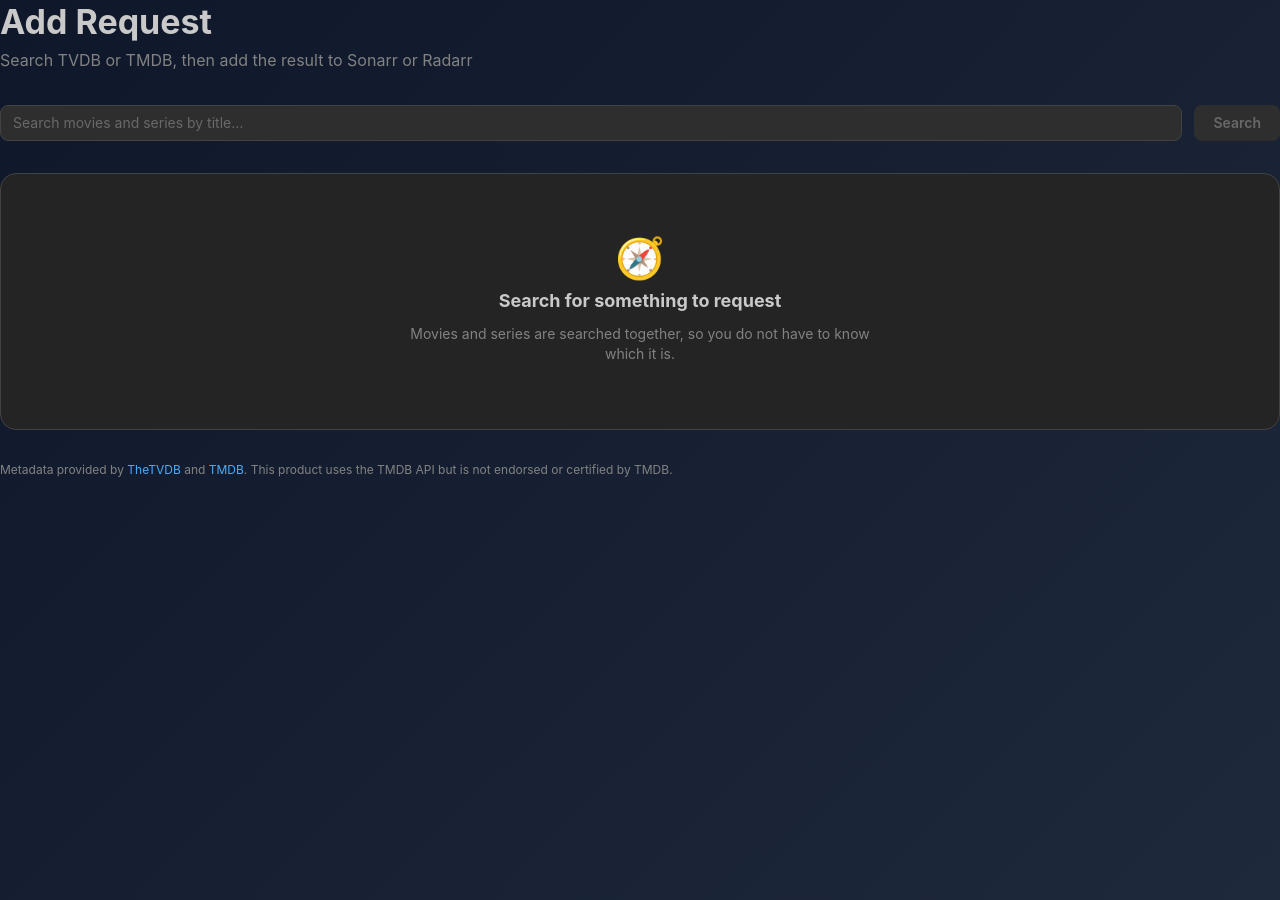
it: AddRequestPage › opens the tab holding the result most likely to be the one wanted
The width and height of the screenshot is (1280, 900).
Type "arrival" into the search field at coordinates (591, 123), box [0,105,1182,141]
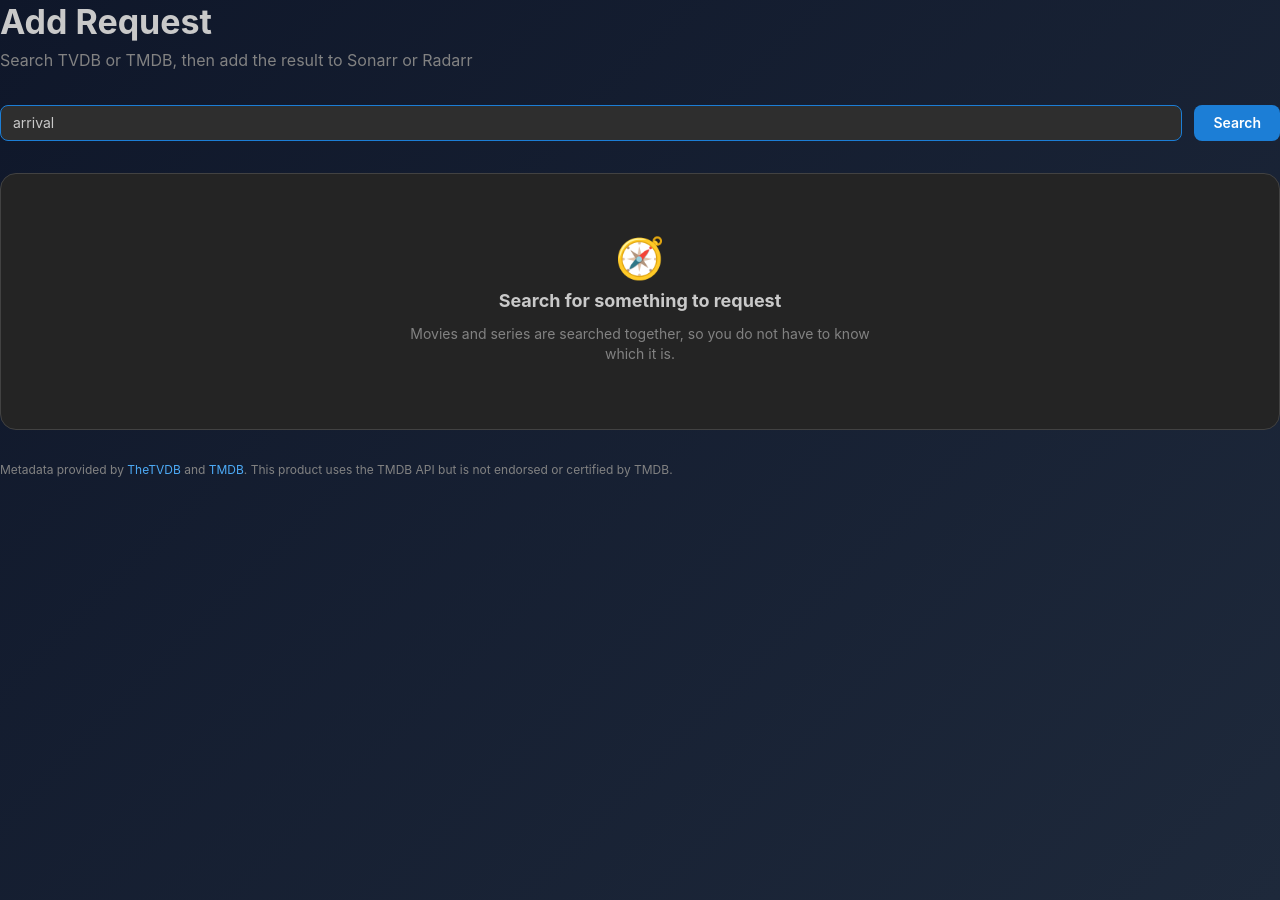
Click the button "Search" at coordinates (1237, 123), box [1194,105,1279,141]
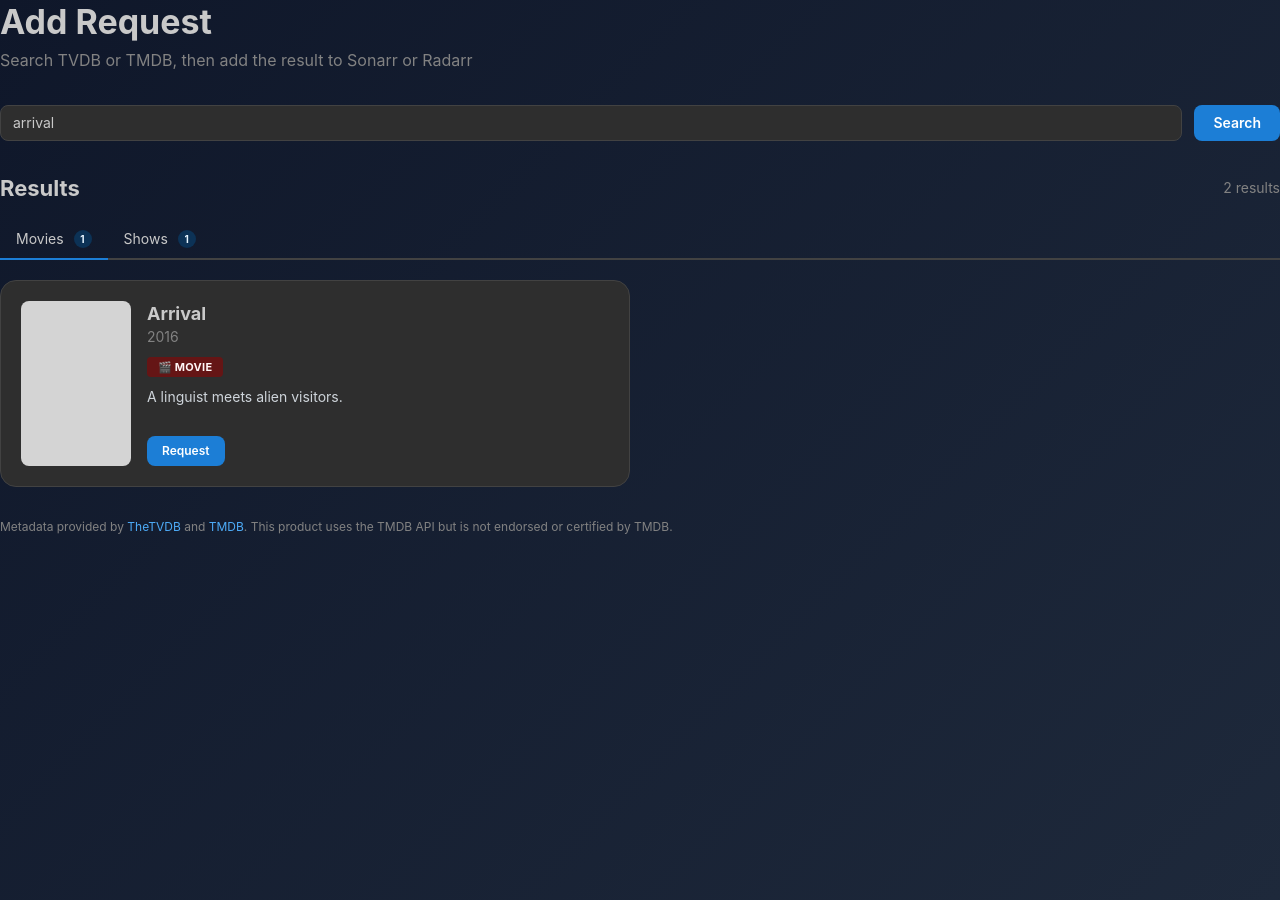
Result: the heading "Arrival" is shown at [147,303,206,324]
